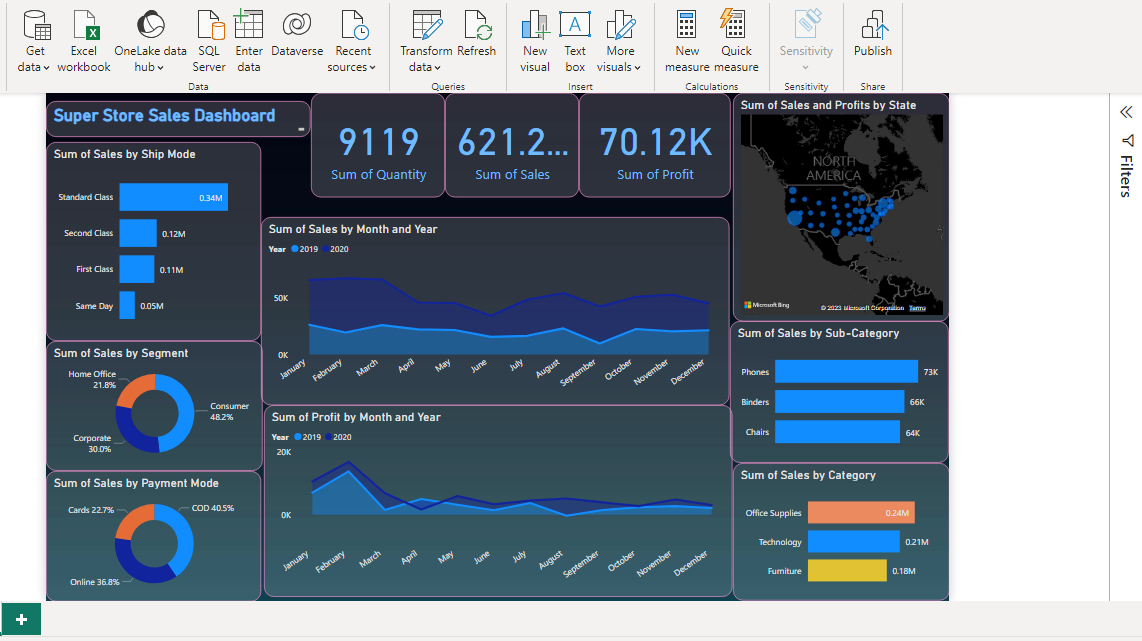

What the dashboard file says about the page in this screenshot:
{"tool":"powerbi","page":{"name":"Page 1","canvas":[1280,720],"ordinal":0},"visuals":[{"type":"clusteredBarChart","fields":{"Category":["SuperStore_Sales_Dataset.Category"],"Y":["Sum(SuperStore_Sales_Dataset.Sales)"]},"box":[973,525.1,307,194.6],"z":0},{"type":"clusteredBarChart","fields":{"Y":["Sum(SuperStore_Sales_Dataset.Sales)"],"Category":["SuperStore_Sales_Dataset.Sub-Category"]},"box":[969.6,323.8,310.4,201.3],"z":1000},{"type":"clusteredBarChart","fields":{"Y":["Sum(SuperStore_Sales_Dataset.Sales)"],"Category":["SuperStore_Sales_Dataset.Ship Mode"]},"box":[0,68.8,305.3,281.8],"z":2000},{"type":"stackedAreaChart","fields":{"Y":["Sum(SuperStore_Sales_Dataset.Sales)"],"Category":["SuperStore_Sales_Dataset.Order Date.Variation.Date Hierarchy.Month","SuperStore_Sales_Dataset.Order Date.Variation.Date Hierarchy.Day"],"Series":["SuperStore_Sales_Dataset.Order Date.Variation.Date Hierarchy.Year"]},"box":[305.3,176.1,664.3,266.7],"z":3000},{"type":"stackedAreaChart","fields":{"Category":["SuperStore_Sales_Dataset.Order Date.Variation.Date Hierarchy.Month","SuperStore_Sales_Dataset.Order Date.Variation.Date Hierarchy.Day"],"Series":["SuperStore_Sales_Dataset.Order Date.Variation.Date Hierarchy.Year"],"Y":["Sum(SuperStore_Sales_Dataset.Profit)"]},"box":[308.7,442.9,664.3,271.8],"z":4000},{"type":"map","title":"Sum of Sales and  Profits by State","fields":{"Category":["SuperStore_Sales_Dataset.State"],"Size":["Sum(SuperStore_Sales_Dataset.Sales)"]},"box":[973,0,307,323.8],"z":5000},{"type":"donutChart","fields":{"Category":["SuperStore_Sales_Dataset.Segment"],"Y":["Sum(SuperStore_Sales_Dataset.Sales)"]},"box":[0,351.1,306.8,184.1],"z":6000},{"type":"donutChart","fields":{"Y":["Sum(SuperStore_Sales_Dataset.Sales)"],"Category":["SuperStore_Sales_Dataset.Payment Mode"]},"box":[0,535.2,305.3,184.5],"z":7000},{"type":"textbox","title":"Super Store Sales Dashboard","box":[0,11.9,375,51.1],"z":9000},{"type":"card","fields":{"Values":["Sum(SuperStore_Sales_Dataset.Sales)"]},"box":[565.3,0,189.6,147.6],"z":10000},{"type":"card","fields":{"Values":["Sum(SuperStore_Sales_Dataset.Quantity)"]},"box":[375.8,0,189.6,147.6],"z":11000},{"type":"card","fields":{"Values":["Sum(SuperStore_Sales_Dataset.Profit)"]},"box":[754.9,0,214.7,147.6],"z":12000}]}

Visuals, with their boxes on the page's 1280x720 design canvas (x1, y1, x2, y2). These are canvas units, not pixel positions in the 1142x641 screenshot, which may show the page scaled, cropped or inside an application window:
clusteredBarChart - SuperStore_Sales_Dataset.Category x Sum(SuperStore_Sales_Dataset.Sales): x1=973, y1=525, x2=1280, y2=720
clusteredBarChart - Sum(SuperStore_Sales_Dataset.Sales) x SuperStore_Sales_Dataset.Sub-Category: x1=970, y1=324, x2=1280, y2=525
clusteredBarChart - Sum(SuperStore_Sales_Dataset.Sales) x SuperStore_Sales_Dataset.Ship Mode: x1=0, y1=69, x2=305, y2=351
stackedAreaChart - Sum(SuperStore_Sales_Dataset.Sales) x SuperStore_Sales_Dataset.Order Date.Variation.Date Hierarchy.Month: x1=305, y1=176, x2=970, y2=443
stackedAreaChart - SuperStore_Sales_Dataset.Order Date.Variation.Date Hierarchy.Month x SuperStore_Sales_Dataset.Order Date.Variation.Date Hierarchy.Day: x1=309, y1=443, x2=973, y2=715
"Sum of Sales and  Profits by State" map: x1=973, y1=0, x2=1280, y2=324
donutChart - SuperStore_Sales_Dataset.Segment x Sum(SuperStore_Sales_Dataset.Sales): x1=0, y1=351, x2=307, y2=535
donutChart - Sum(SuperStore_Sales_Dataset.Sales) x SuperStore_Sales_Dataset.Payment Mode: x1=0, y1=535, x2=305, y2=720
"Super Store Sales Dashboard" textbox: x1=0, y1=12, x2=375, y2=63
card - Sum(SuperStore_Sales_Dataset.Sales): x1=565, y1=0, x2=755, y2=148
card - Sum(SuperStore_Sales_Dataset.Quantity): x1=376, y1=0, x2=565, y2=148
card - Sum(SuperStore_Sales_Dataset.Profit): x1=755, y1=0, x2=970, y2=148
